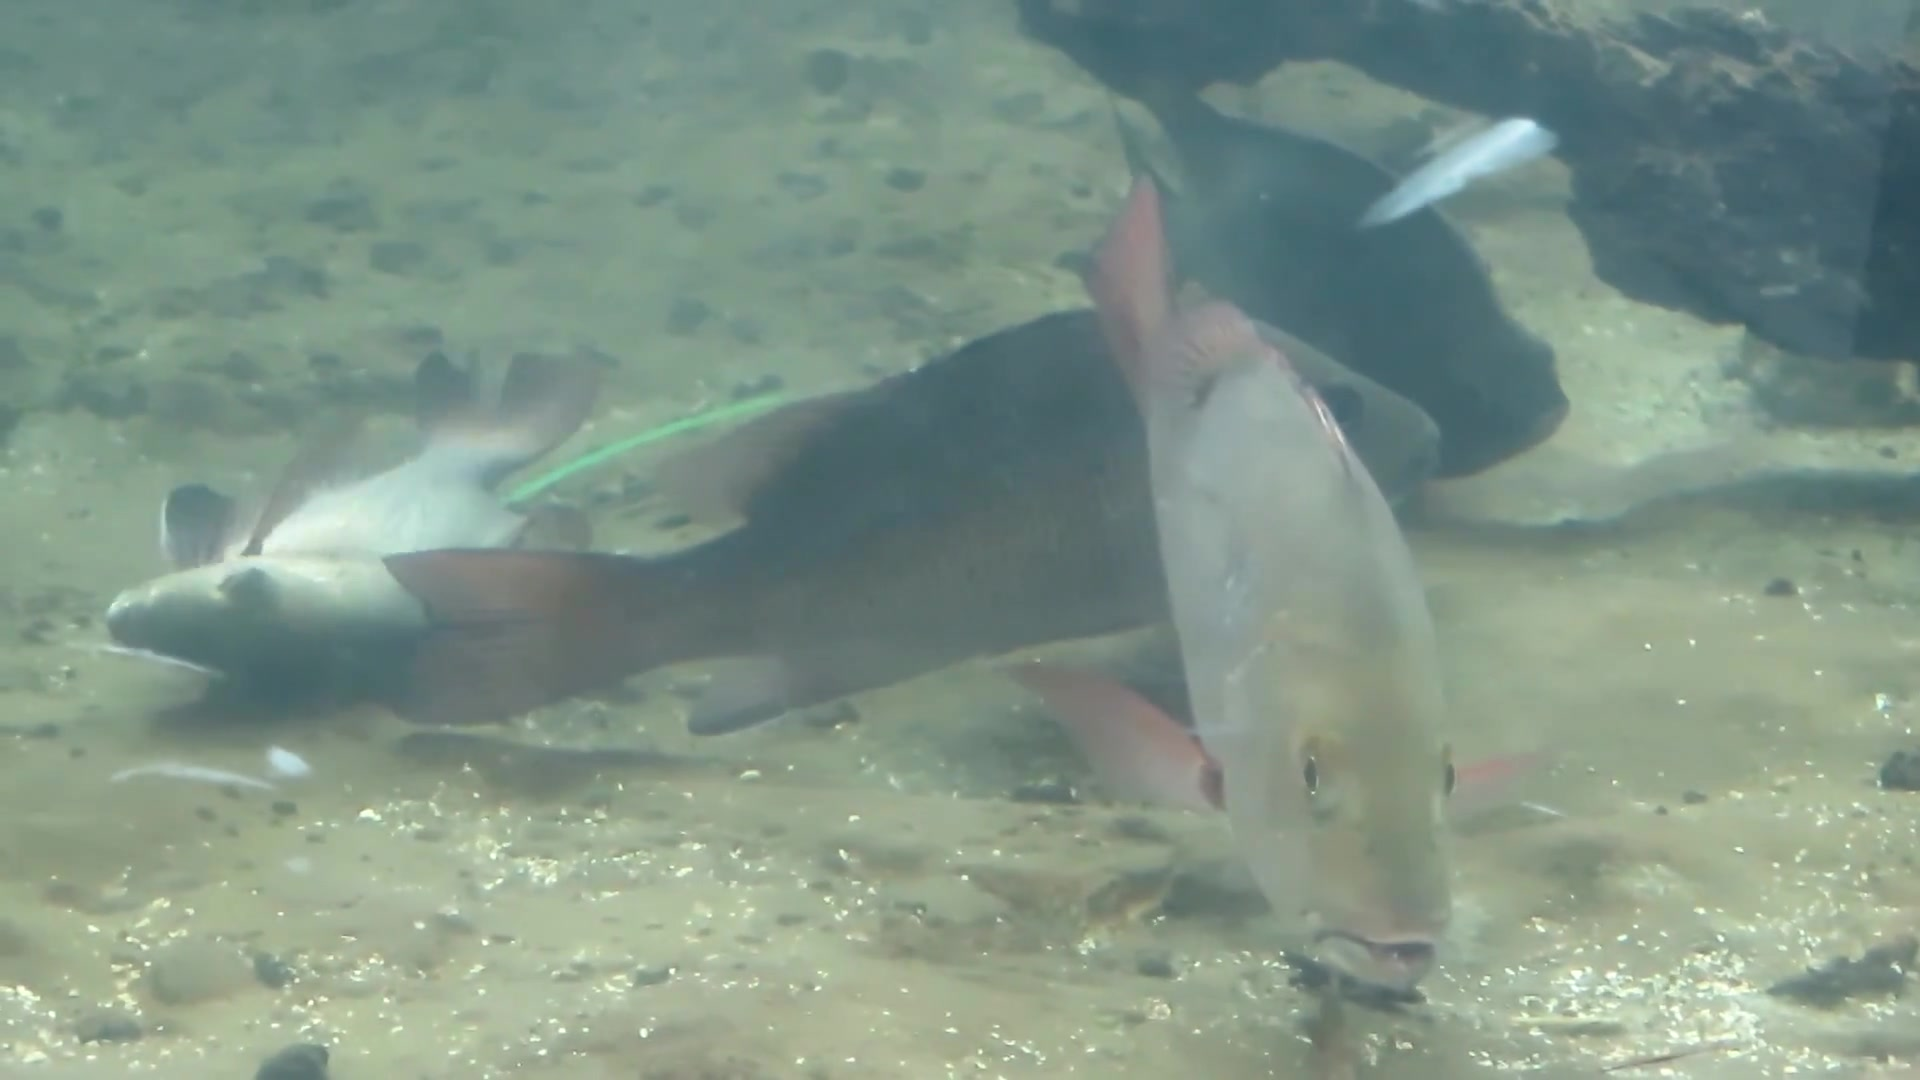Lutjanus argentimaculatus: (1138, 278, 1474, 1018)
